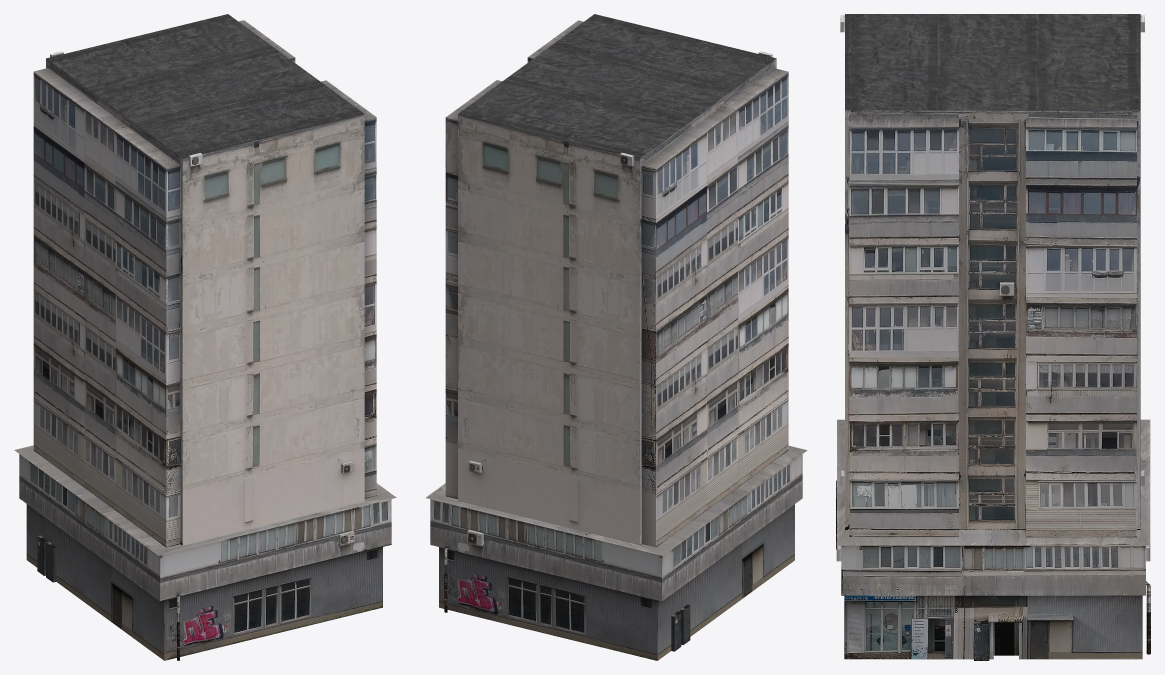
The model's file is bld_t9.glb.
3 views of the same model, side by side, from view 1: azimuth 30°, elevation 25°; view 2: azimuth 150°, elevation 25°; view 3: azimuth 270°, elevation 25° (orthographic). The views are drawn at different scales.
Visible parts, largest first — view 1: body|building9storey, body|grey; view 2: body|building9storey, body|grey; view 3: body|building9storey, body|grey.
Boxes of the visible parts, x1,y1,x2,y2 form: body|building9storey: (14,20,396,660); body|grey: (46,14,364,158); body|building9storey: (425,20,807,660); body|grey: (458,14,775,157); body|building9storey: (836,15,1150,660); body|grey: (845,14,1140,110).
Bounding box in the file's own units: 14.2 × 28.42 × 15.
2 materials, 2 textured.
